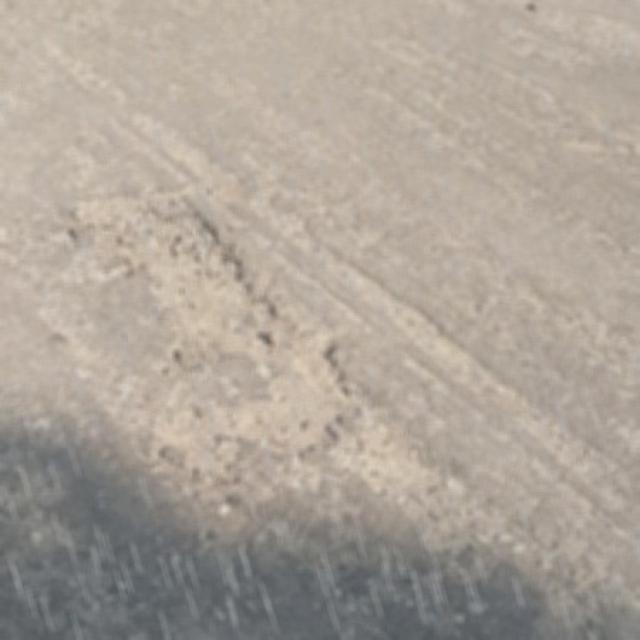road-pothole: (43, 181, 367, 549)
